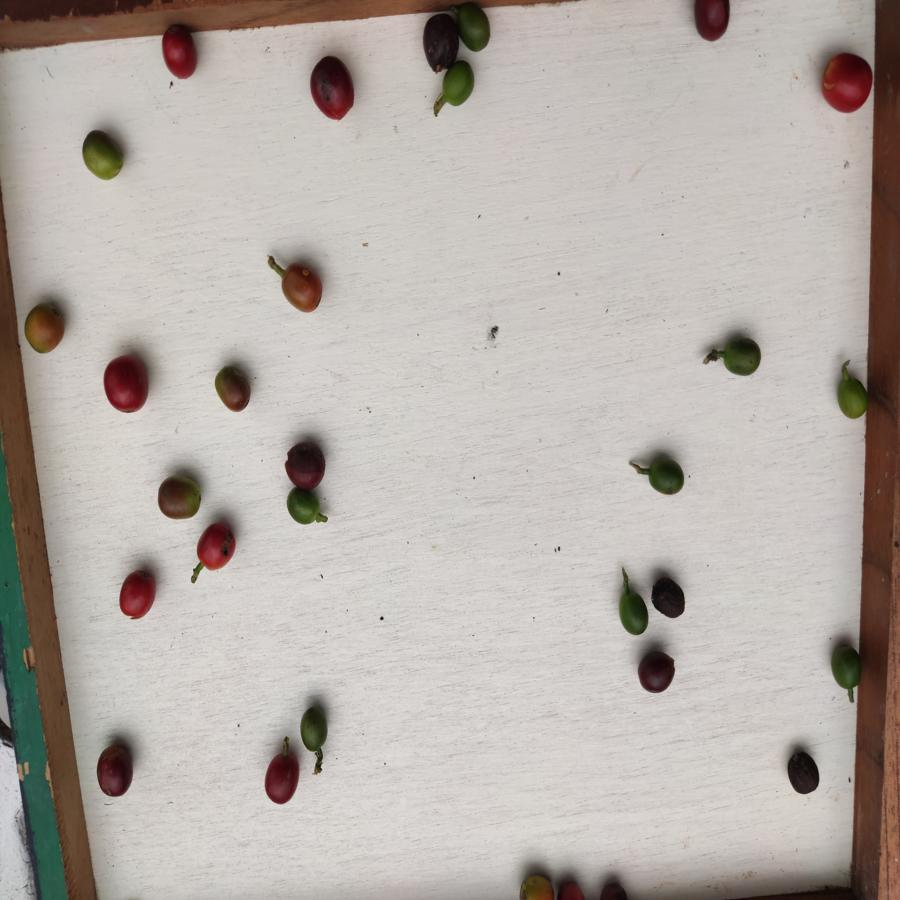Inmaduro: (80, 129, 126, 183), (719, 333, 765, 381), (645, 453, 688, 499), (827, 641, 865, 690), (457, 6, 494, 55), (833, 372, 869, 422), (441, 59, 476, 109), (616, 587, 651, 636), (297, 707, 333, 754), (284, 488, 326, 526)
Maduro: (814, 54, 874, 115), (103, 353, 151, 419), (114, 567, 159, 623), (159, 21, 201, 80), (196, 518, 239, 571)
Pinton: (279, 261, 328, 316), (22, 303, 69, 354), (157, 473, 203, 521), (213, 366, 253, 413), (517, 871, 558, 900)
Sobremaduro: (304, 54, 358, 121), (89, 736, 137, 797), (416, 11, 461, 72), (279, 438, 330, 489), (261, 752, 300, 805), (636, 649, 678, 695), (649, 574, 687, 622), (787, 749, 821, 795), (692, 1, 730, 42)
